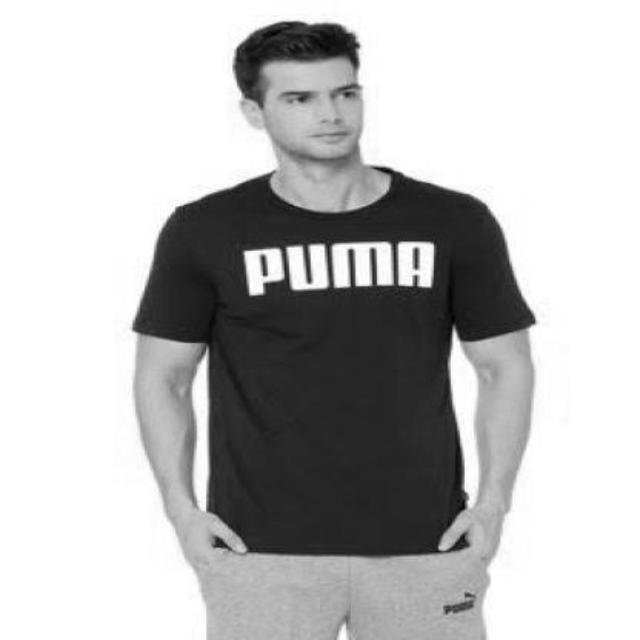PUMA_original: (241, 234, 447, 296)
